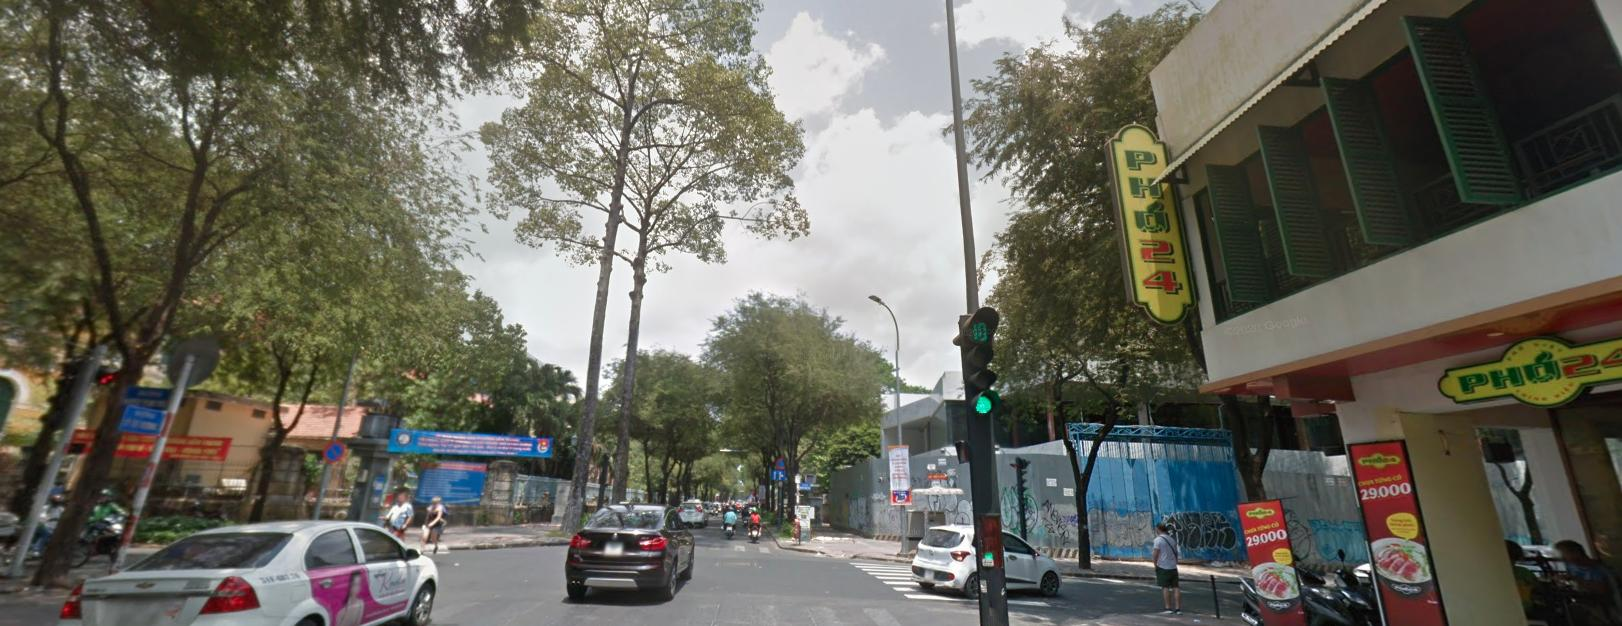Cam dung va do: (320, 438, 346, 463), (775, 455, 788, 468)
